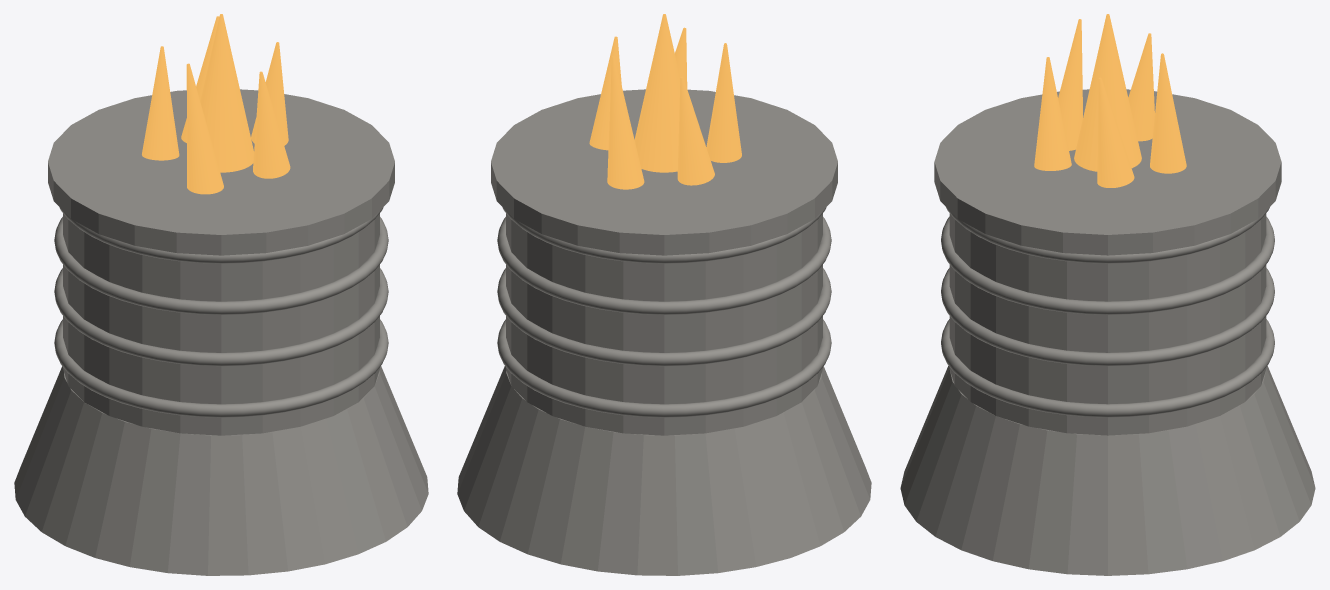
Rendered from beacon.glb.
3 renders of one model, left to right at view 1: azimuth 30°, elevation 25°; view 2: azimuth 150°, elevation 25°; view 3: azimuth 270°, elevation 25°, orthographic.
Parts seen in each view (by area): view 1: Cone, Cylinder, Cylinder.001, Torus.011, Torus.013, Torus.012, Cone.006, Cone.004, Torus.014, Cone.003, Cone.005, Cone.001 (+1 smaller); view 2: Cone, Cylinder, Cylinder.001, Torus.011, Torus.013, Torus.012, Cone.006, Cone.002, Torus.014, Cone.004, Cone.003, Cone.001; view 3: Cone, Cylinder, Cylinder.001, Torus.011, Torus.013, Torus.012, Cone.006, Cone.002, Torus.014, Cone.005, Cone.001, Cone.004 (+1 smaller).
Boxes of the visible parts, bbox=[...] form: Cone: bbox=[14, 366, 428, 575]; Cylinder: bbox=[63, 213, 379, 435]; Cylinder.001: bbox=[48, 89, 394, 255]; Torus.011: bbox=[54, 319, 388, 417]; Torus.013: bbox=[54, 217, 388, 314]; Torus.012: bbox=[54, 268, 388, 366]; Cone.006: bbox=[200, 14, 253, 172]; Cone.004: bbox=[186, 63, 223, 194]; Torus.014: bbox=[59, 207, 383, 263]; Cone.003: bbox=[142, 46, 179, 160]; Cone.005: bbox=[253, 71, 290, 178]; Cone.001: bbox=[251, 42, 288, 145]; Cone: bbox=[457, 366, 871, 575]; Cylinder: bbox=[506, 213, 822, 435]; Cylinder.001: bbox=[491, 89, 837, 255]; Torus.011: bbox=[497, 319, 831, 417]; Torus.013: bbox=[497, 217, 831, 314]; Torus.012: bbox=[497, 268, 831, 366]; Cone.006: bbox=[634, 14, 680, 172]; Cone.002: bbox=[607, 56, 644, 189]; Torus.014: bbox=[502, 207, 826, 263]; Cone.004: bbox=[706, 43, 741, 162]; Cone.003: bbox=[677, 76, 714, 185]; Cone.001: bbox=[589, 36, 621, 150]; Cone: bbox=[900, 366, 1315, 575]; Cylinder: bbox=[949, 213, 1266, 435]; Cylinder.001: bbox=[934, 89, 1281, 255]; Torus.011: bbox=[941, 319, 1274, 417]; Torus.013: bbox=[941, 216, 1274, 314]; Torus.012: bbox=[941, 268, 1274, 366]; Cone.006: bbox=[1074, 14, 1141, 171]; Cone.002: bbox=[1150, 53, 1186, 173]; Torus.014: bbox=[946, 207, 1269, 263]; Cone.005: bbox=[1034, 57, 1071, 170]; Cone.001: bbox=[1097, 77, 1134, 187]; Cone.004: bbox=[1058, 19, 1082, 150].
Size of the model in its own units: 1.1 by 1.38 by 1.1.
